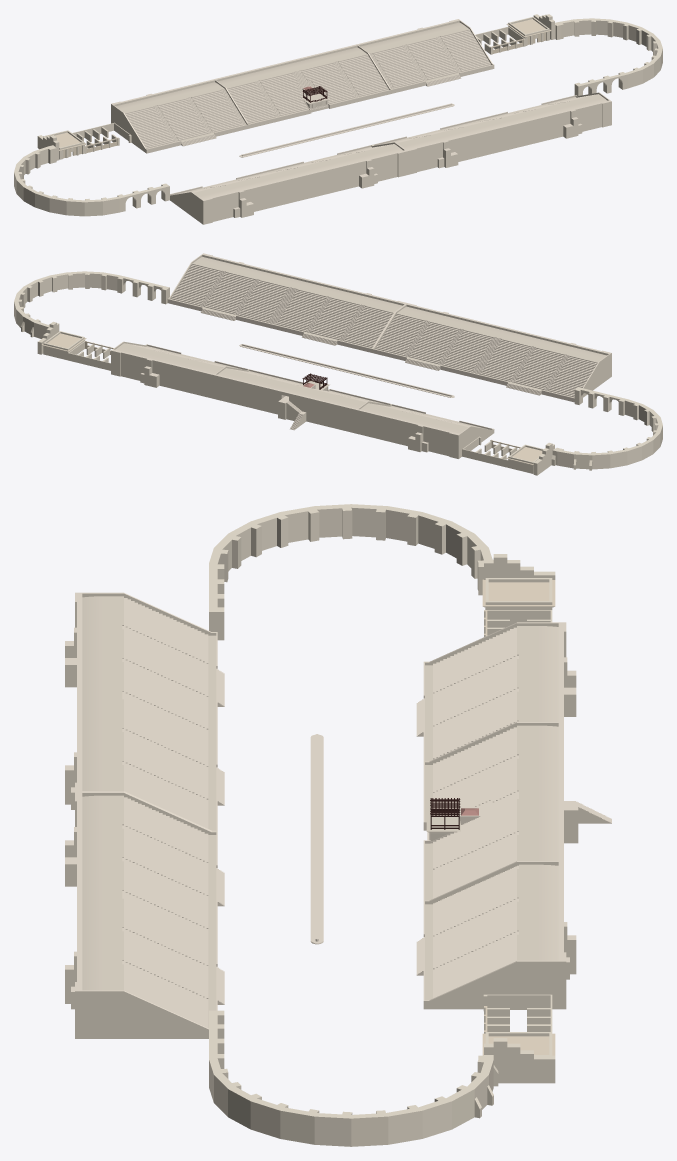
File: HorseRace.fbx
3 renders of one model, top to bottom at view 1: azimuth 30°, elevation 25°; view 2: azimuth 150°, elevation 25°; view 3: azimuth 270°, elevation 25°, orthographic. The views are drawn at different scales.
Parts seen in each view (by area): view 1: buildings10; view 2: buildings10; view 3: buildings10.
Boxes of the visible parts, x1,y1,x2,y2 form: buildings10: [14, 14, 662, 224]; buildings10: [14, 253, 662, 475]; buildings10: [65, 504, 611, 1146].
Bounding box in the file's own units: 484 × 17.5 × 182.
